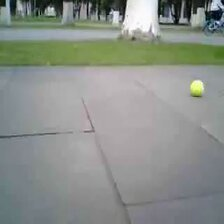tennis: (190, 80, 204, 98)
